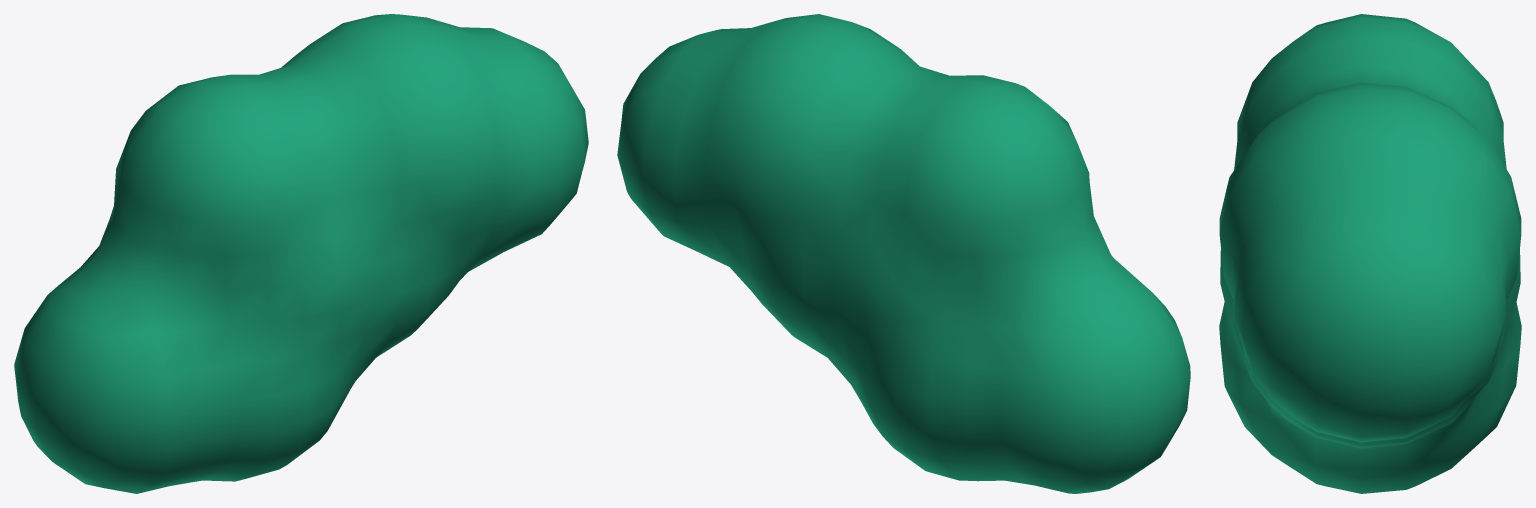
Rendered from viewer-surface.obj.
3 renders of one model, left to right at view 1: azimuth 30°, elevation 25°; view 2: azimuth 150°, elevation 25°; view 3: azimuth 270°, elevation 25°, orthographic. The views are drawn at different scales.
Size of the model in its own units: 8.31 by 5.86 by 3.37.
